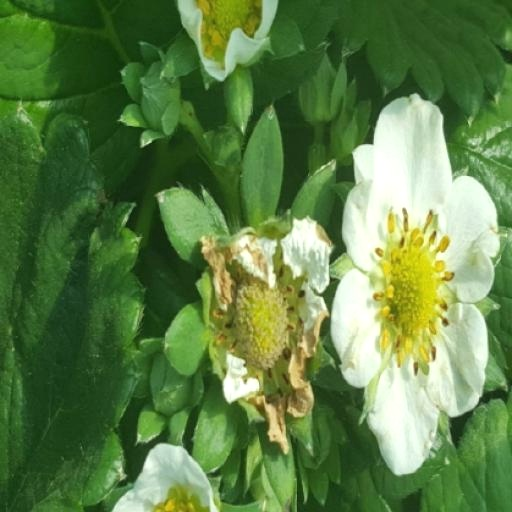Blossom Blight: (198, 241, 302, 405), (52, 204, 143, 378)
